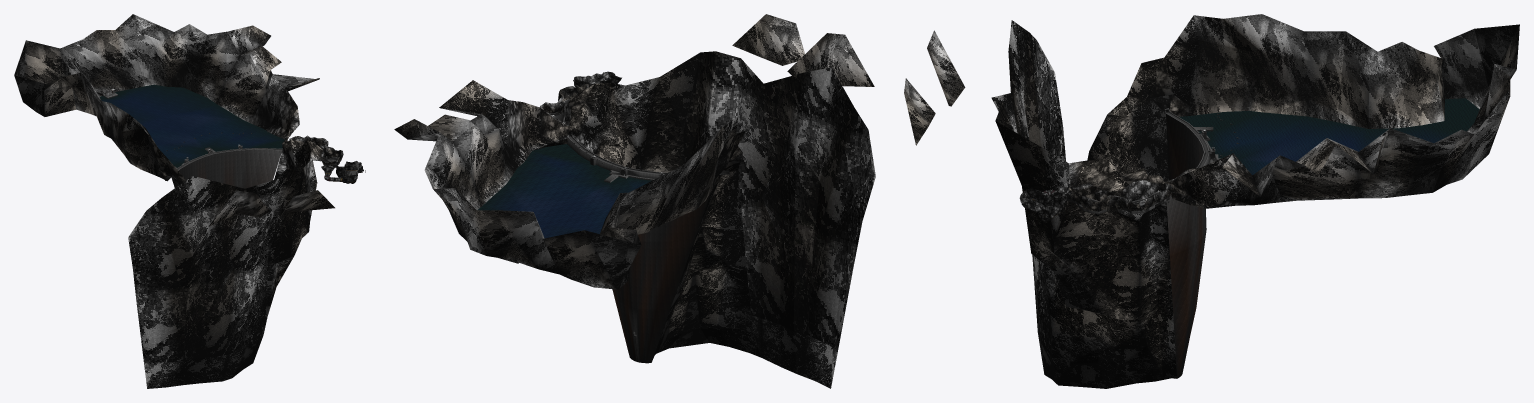
File: Dam.glb
3 renders of one model, left to right at view 1: azimuth 30°, elevation 25°; view 2: azimuth 150°, elevation 25°; view 3: azimuth 270°, elevation 25°, orthographic. The views are drawn at different scales.
Visible parts, largest first — view 1: Dam; view 2: Dam; view 3: Dam.
Boxes of the visible parts, x1,y1,x2,y2 form: Dam: (14, 14, 365, 388); Dam: (394, 14, 875, 388); Dam: (904, 14, 1519, 388).
Bounding box in the file's own units: 1662 × 1408 × 2358.
58 materials, 57 textured.
